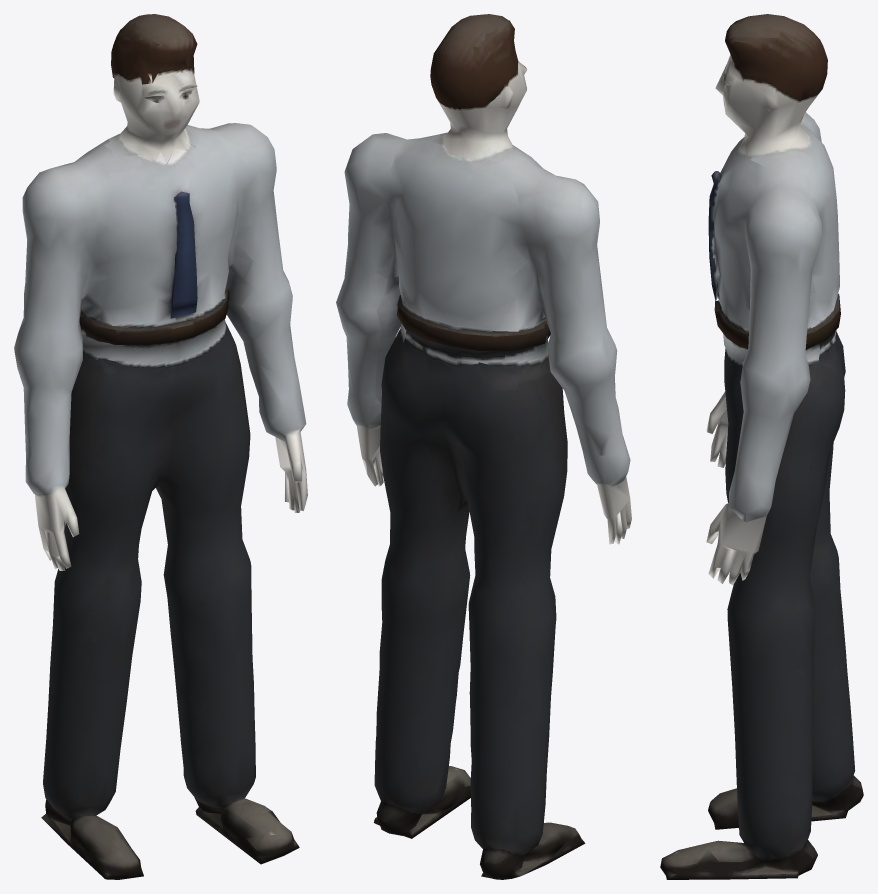
The model's file is mq_man_suit-low.glb.
3 views of the same model, side by side, from view 1: azimuth 30°, elevation 25°; view 2: azimuth 150°, elevation 25°; view 3: azimuth 270°, elevation 25° (orthographic).
Visible parts, largest first — view 1: mq_man_suit-low, mq_man_suit_head-low; view 2: mq_man_suit-low, mq_man_suit_head-low; view 3: mq_man_suit-low, mq_man_suit_head-low.
Boxes of the visible parts, x1=… form: mq_man_suit-low: x1=14, y1=123, x2=307, y2=879; mq_man_suit_head-low: x1=104, y1=14, x2=202, y2=164; mq_man_suit-low: x1=336, y1=133, x2=631, y2=879; mq_man_suit_head-low: x1=428, y1=14, x2=527, y2=162; mq_man_suit-low: x1=660, y1=112, x2=863, y2=879; mq_man_suit_head-low: x1=715, y1=14, x2=827, y2=167.
Size of the model in its own units: 0.6252 by 1.79 by 0.398.
1 material, 1 textured.
